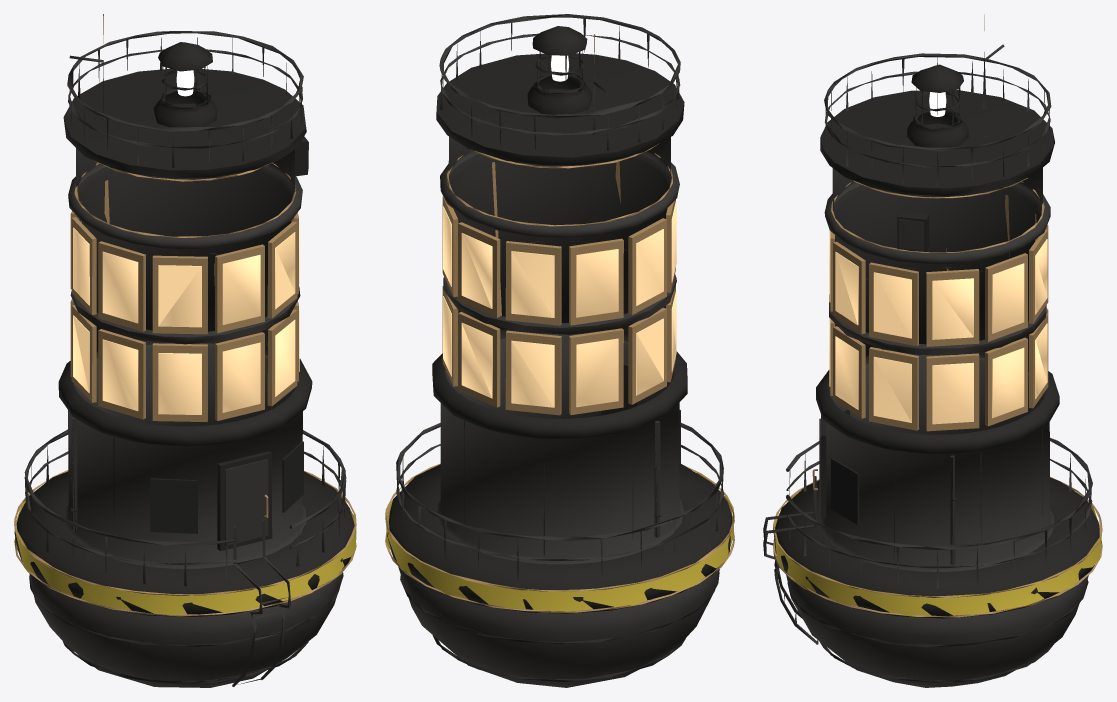
The model's file is GedenkbojeFern.glb.
3 renders of one model, left to right at view 1: azimuth 30°, elevation 25°; view 2: azimuth 150°, elevation 25°; view 3: azimuth 270°, elevation 25°, orthographic. The views are drawn at different scales.
Visible parts, largest first — view 1: Gedenkboje_lack, Gedenkboje_glow_Tafel hinterleuchtet, Gedenkboje_metall, Gedenkboje_warn; view 2: Gedenkboje_lack, Gedenkboje_glow_Tafel hinterleuchtet, Gedenkboje_metall, Gedenkboje_warn; view 3: Gedenkboje_lack, Gedenkboje_glow_Tafel hinterleuchtet, Gedenkboje_metall, Gedenkboje_warn.
Boxes of the visible parts, bbox=[...] form: Gedenkboje_lack: bbox=[14, 31, 354, 687]; Gedenkboje_glow_Tafel hinterleuchtet: bbox=[73, 221, 299, 414]; Gedenkboje_metall: bbox=[14, 14, 356, 616]; Gedenkboje_warn: bbox=[14, 492, 356, 615]; Gedenkboje_lack: bbox=[387, 14, 732, 687]; Gedenkboje_glow_Tafel hinterleuchtet: bbox=[443, 201, 676, 407]; Gedenkboje_metall: bbox=[385, 34, 734, 612]; Gedenkboje_warn: bbox=[385, 473, 734, 611]; Gedenkboje_lack: bbox=[763, 44, 1101, 687]; Gedenkboje_glow_Tafel hinterleuchtet: bbox=[829, 230, 1047, 424]; Gedenkboje_metall: bbox=[773, 14, 1102, 617]; Gedenkboje_warn: bbox=[774, 490, 1101, 615].
Size of the model in its own units: 4.57 by 9.67 by 4.7.
